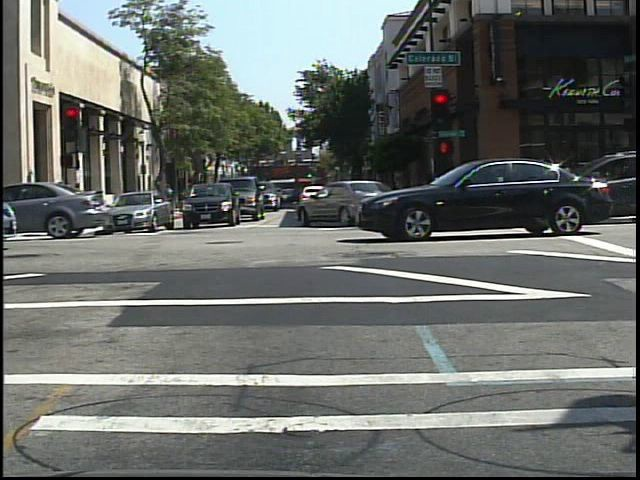person: (617, 151, 639, 220), (160, 180, 179, 219)
